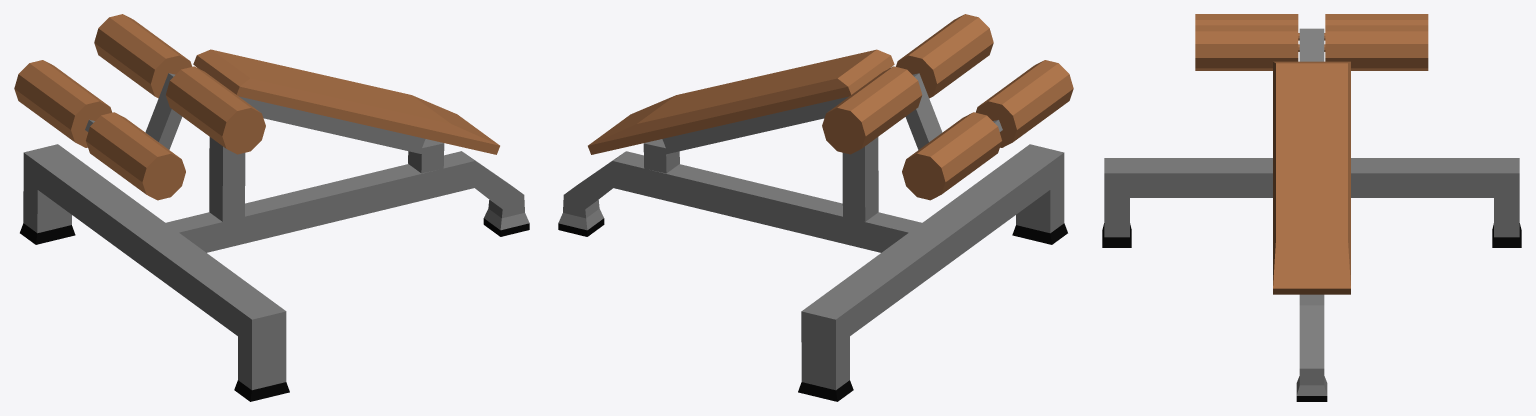
File: AbdominalBench.fbx
3 views of the same model, side by side, from view 1: azimuth 30°, elevation 25°; view 2: azimuth 150°, elevation 25°; view 3: azimuth 270°, elevation 25° (orthographic). The views are drawn at different scales.
Parts seen in each view (by area): view 1: AbdominalBench; view 2: AbdominalBench; view 3: AbdominalBench.
Boxes of the visible parts, <box> form: AbdominalBench: <box>14,14,529,401</box>; AbdominalBench: <box>558,14,1073,401</box>; AbdominalBench: <box>1102,14,1521,401</box>.
Bounding box in the file's own units: 127 × 66.82 × 114.
